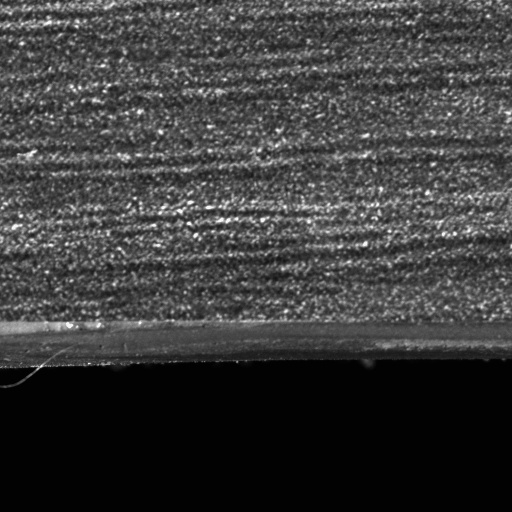kaijiao: (0, 317, 511, 371)
